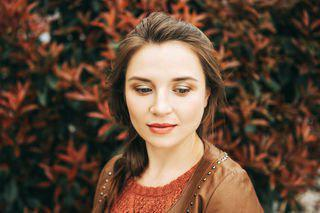Sober: (128, 52, 202, 140)
